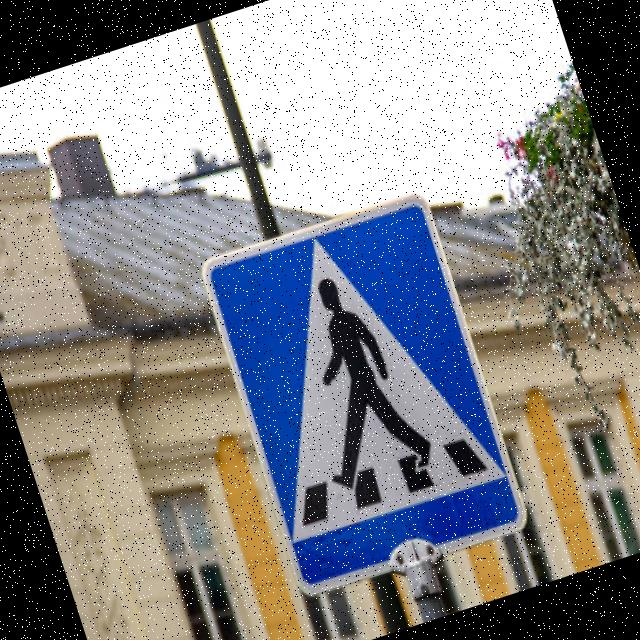crosswalk: (181, 172, 546, 618)
